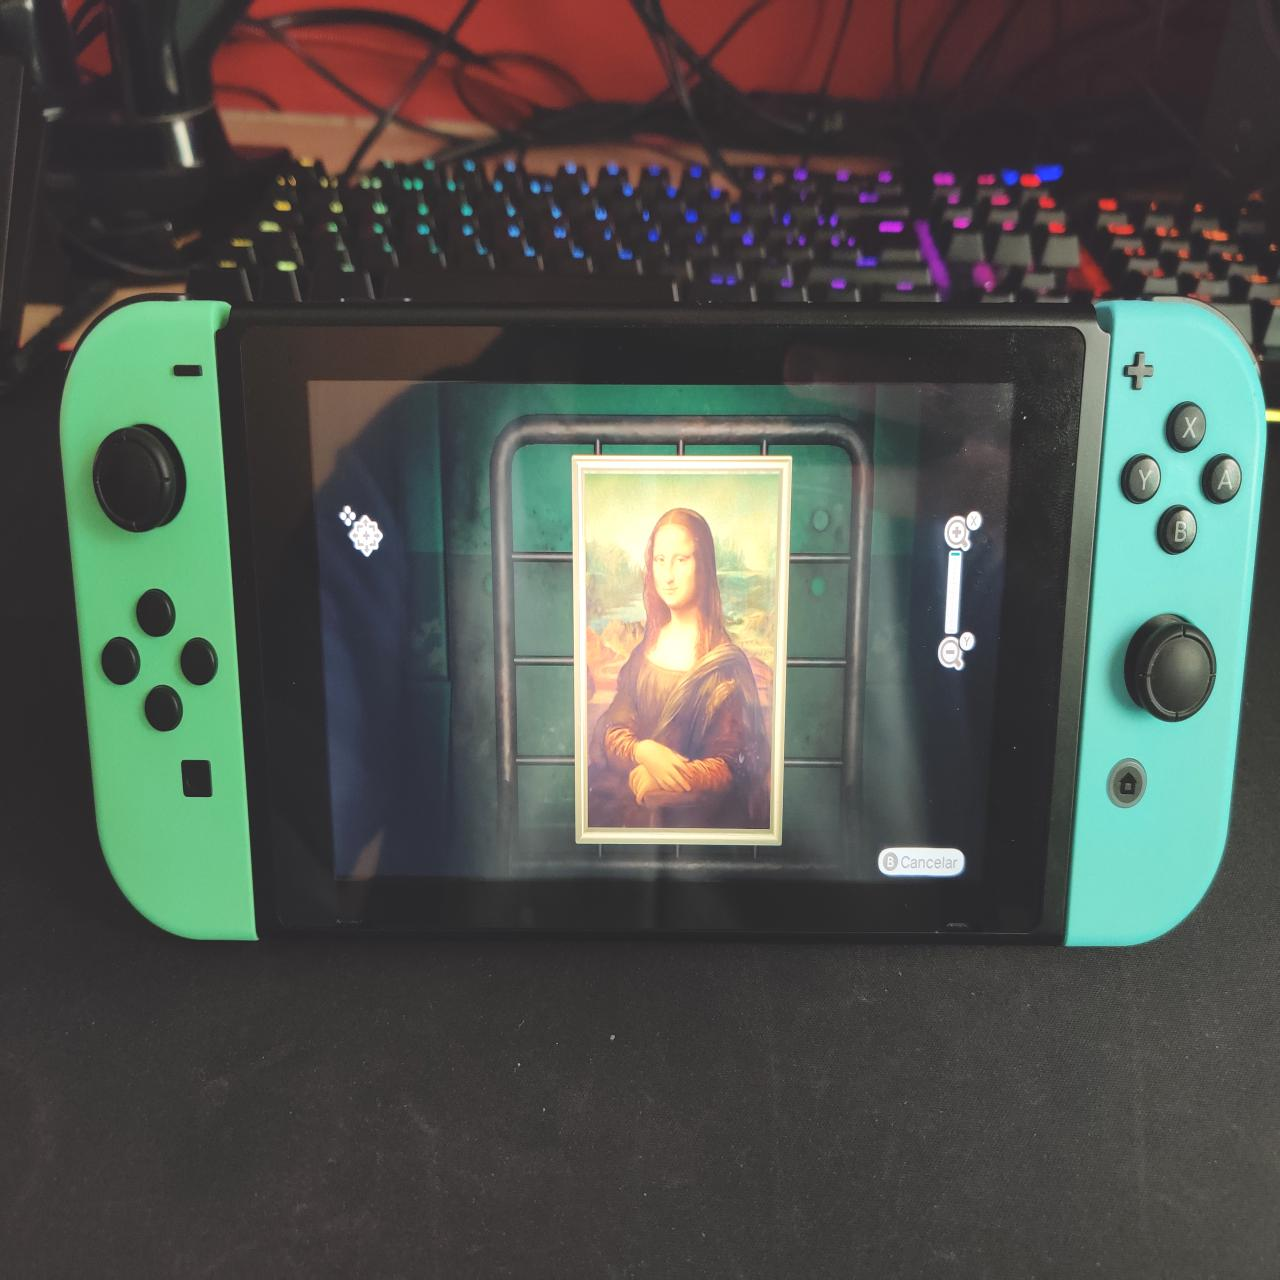MonaLisa: (585, 474, 772, 829)
